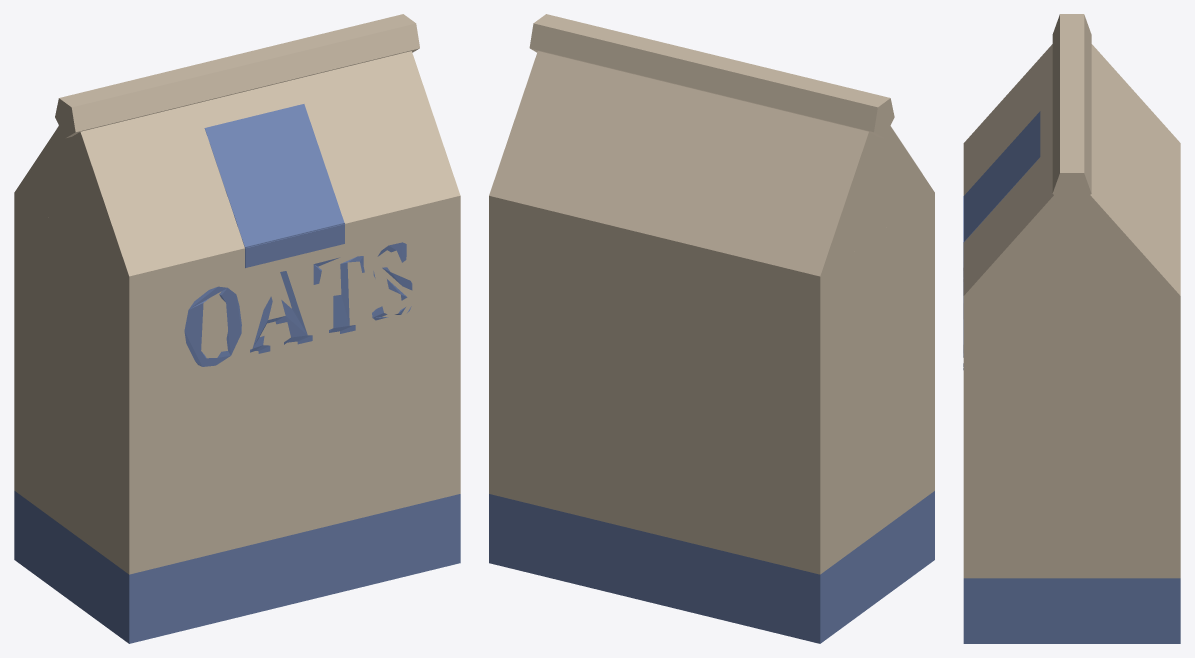
Rendered from performanceOats.glb.
3 renders of one model, left to right at view 1: azimuth 30°, elevation 25°; view 2: azimuth 150°, elevation 25°; view 3: azimuth 270°, elevation 25°, orthographic. The views are drawn at different scales.
Visible parts, largest first — view 1: Mesh_Mesh_head_geo001_lambert2SG001; view 2: Mesh_Mesh_head_geo001_lambert2SG001; view 3: Mesh_Mesh_head_geo001_lambert2SG001.
Part boxes in pixels (<box>): Mesh_Mesh_head_geo001_lambert2SG001: <box>14,14,460,643</box>; Mesh_Mesh_head_geo001_lambert2SG001: <box>489,14,934,643</box>; Mesh_Mesh_head_geo001_lambert2SG001: <box>963,14,1180,643</box>.
Size of the model in its own units: 44.27 by 61.51 by 25.6.
